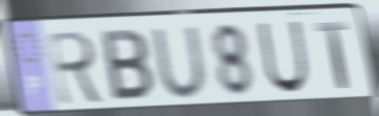8: (209, 21, 256, 100)
B: (99, 27, 156, 104)
R: (45, 28, 108, 108)
T: (312, 19, 351, 91)
U: (148, 23, 212, 101), (255, 18, 311, 96)
